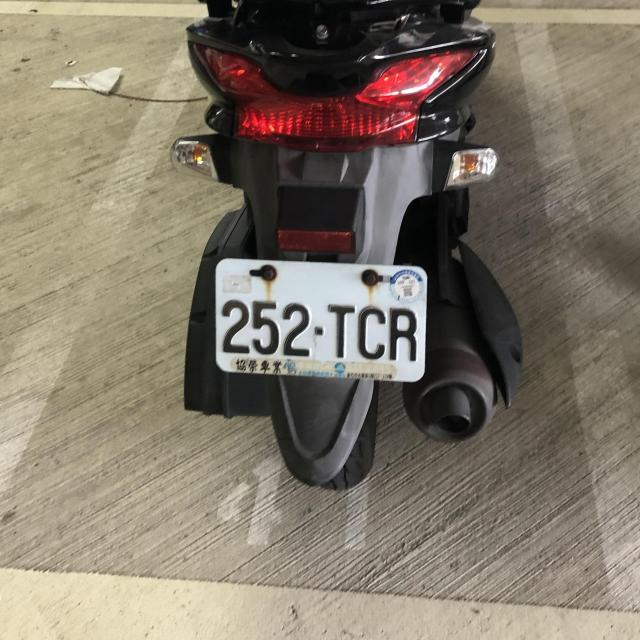W: (208, 246, 430, 390)
